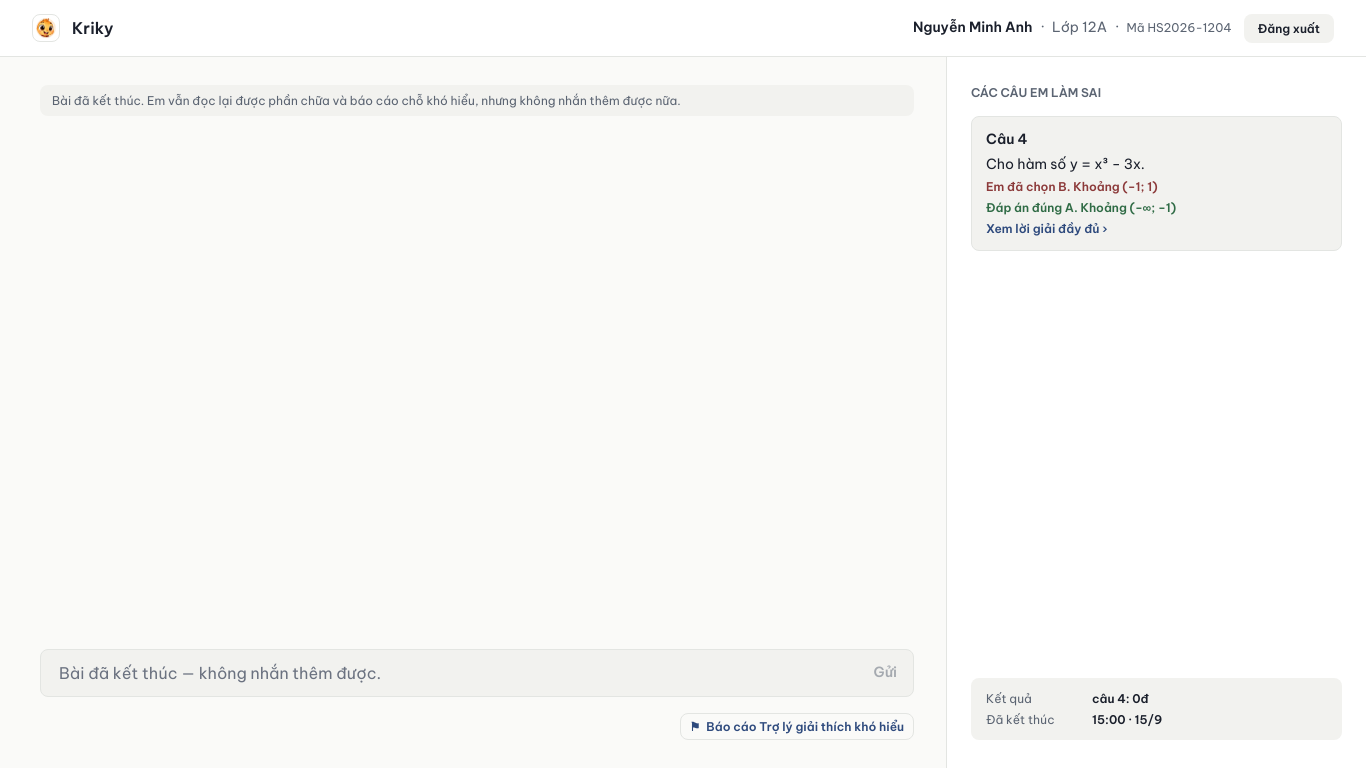
Test: the tutoring screen › turns the report button into a quiet done mark, not a red strip
Click the button "⚑ Báo cáo Trợ lý giải thích khó hiểu": (797, 726) 680,713 -> 914,740
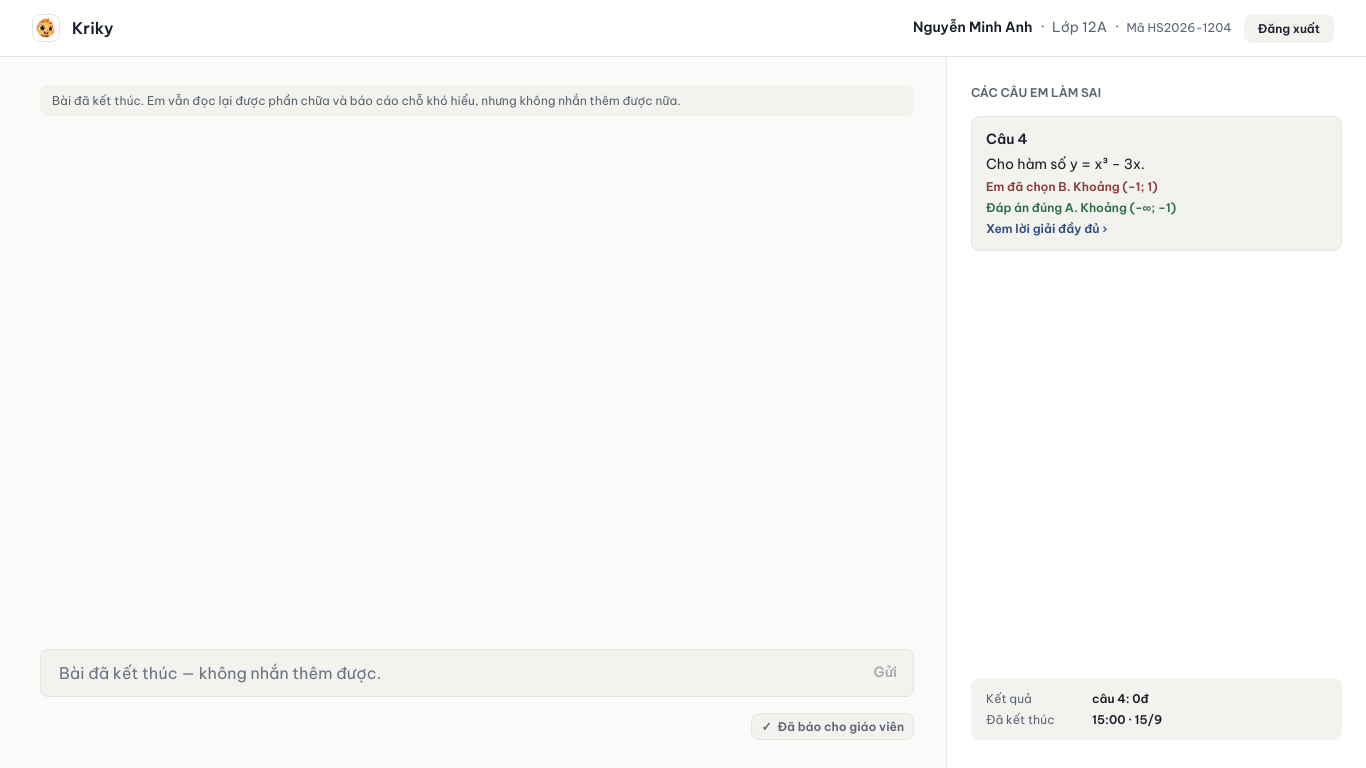
Result: the button "✓ Đã báo cho giáo viên" is disabled at 752,713 -> 914,740
